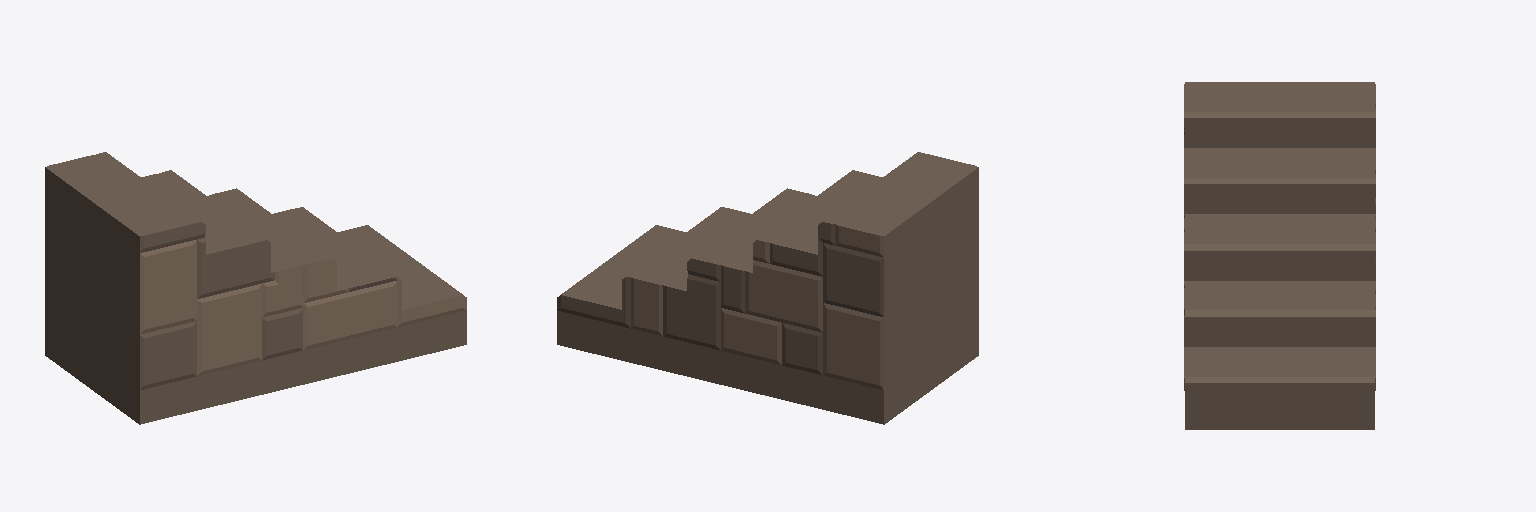
The model's file is Stone_Steps_Side_1.obj.
The picture shows the model from 3 angles: view 1: azimuth 30°, elevation 25°; view 2: azimuth 150°, elevation 25°; view 3: azimuth 270°, elevation 25°; orthographic projection.
Visible parts, largest first — view 1: object1; view 2: object1; view 3: object1.
Part boxes in pixels (left/top/right/bottom): object1: left=45, top=152, right=466, bottom=424; object1: left=557, top=152, right=978, bottom=424; object1: left=1184, top=82, right=1375, bottom=429.
Bounding box in the file's own units: 2 × 1.1 × 1.01.